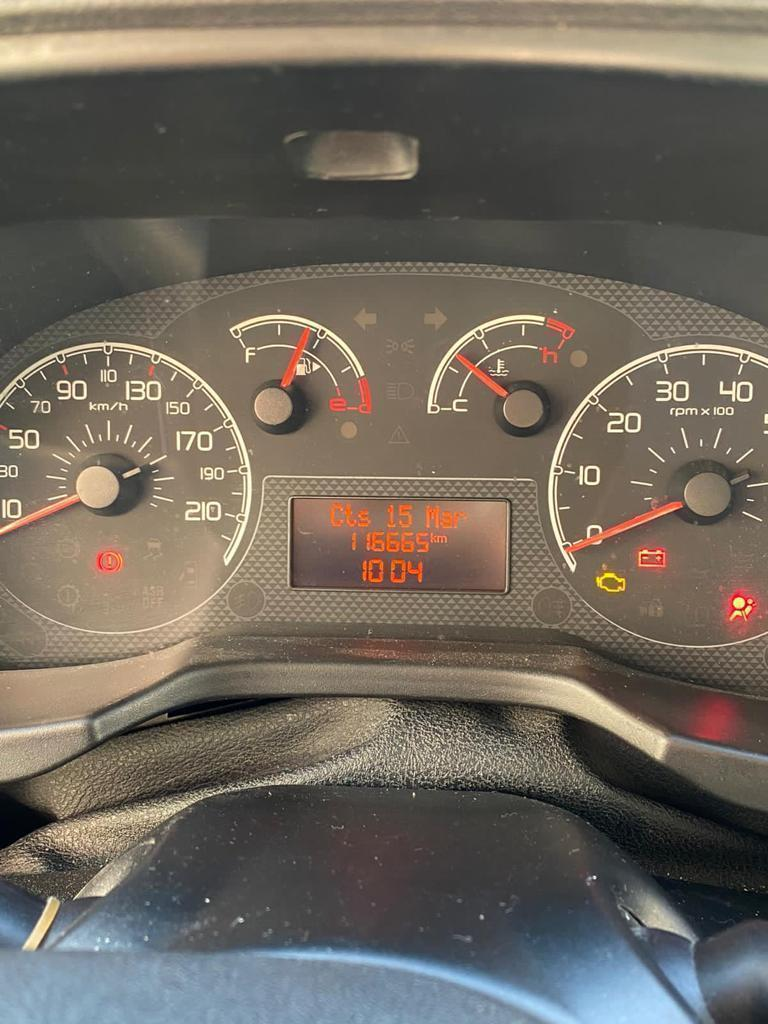0: (389, 559, 406, 582), (367, 558, 383, 582)
1: (386, 504, 395, 527), (361, 559, 367, 581), (351, 531, 357, 551), (365, 532, 370, 551)
4: (407, 559, 423, 583)
5: (398, 504, 412, 528), (415, 531, 429, 552)
6: (385, 531, 400, 552), (370, 531, 385, 551), (401, 531, 414, 552)
X: (424, 504, 439, 527), (344, 501, 356, 526), (330, 503, 343, 526), (357, 508, 371, 526), (453, 511, 466, 528), (440, 511, 452, 528), (436, 535, 447, 543), (430, 532, 436, 543)
odometer: (286, 495, 511, 595)
